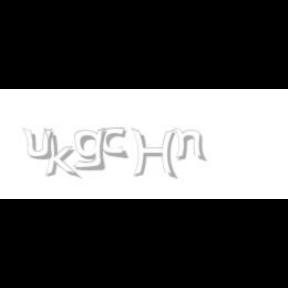H: (131, 128, 177, 180)
c: (101, 128, 130, 160)
g: (74, 128, 110, 171)
k: (43, 128, 81, 180)
n: (174, 128, 208, 162)
u: (22, 128, 58, 160)
